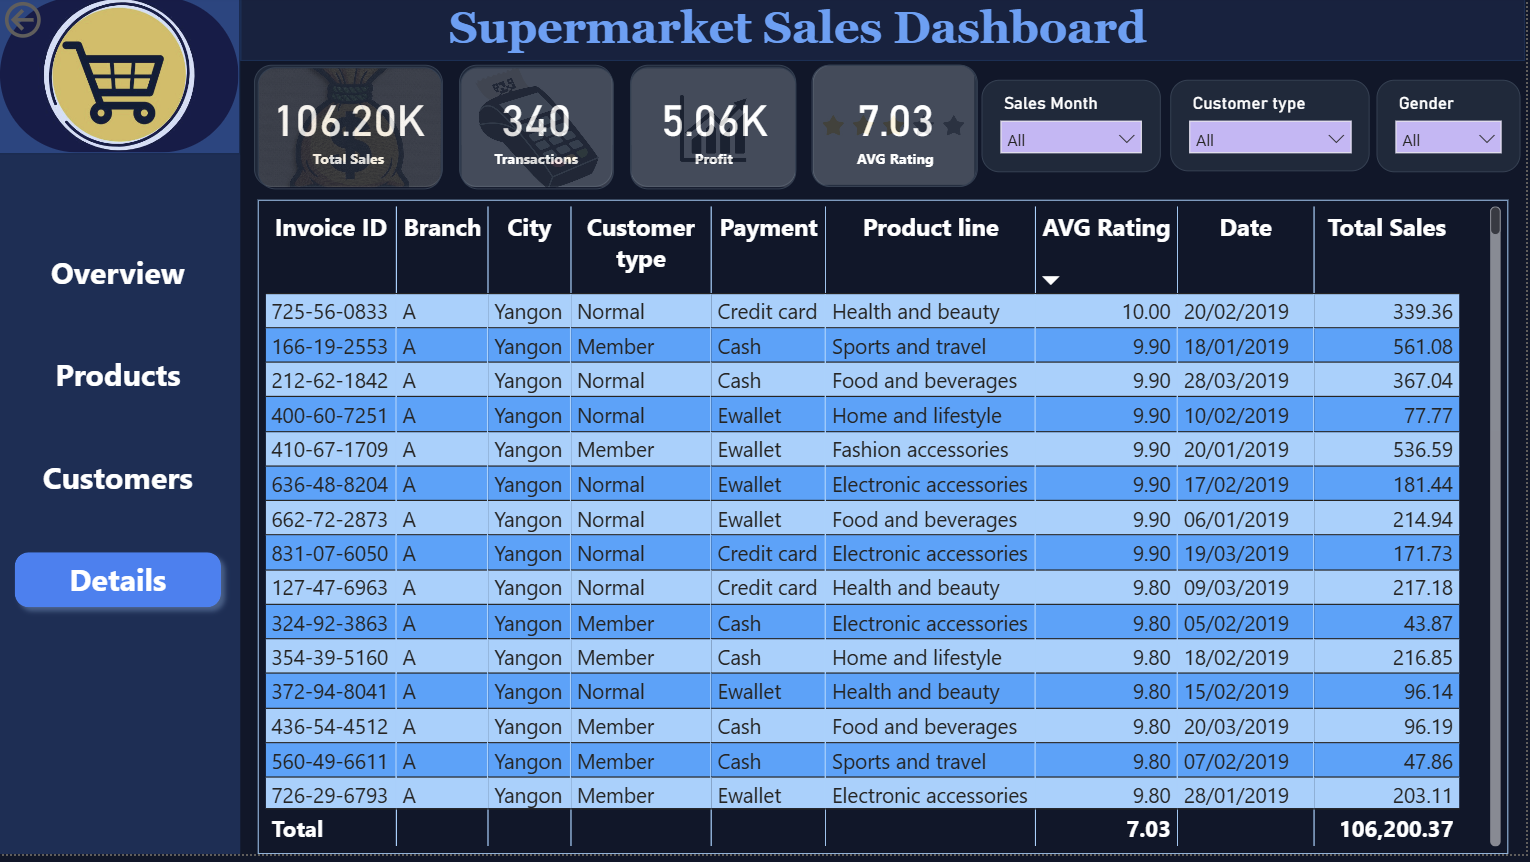

The dashboard page shown, as its layout file describes it:
{"tool":"powerbi","page":{"name":"Details","canvas":[1280,720],"ordinal":3},"visuals":[{"type":"card","fields":{"Values":["supermarket_sales.Total Revenue"]},"box":[214,58.1,158.1,102.3],"z":0},{"type":"shape","box":[0,0,202.3,719.8],"z":500,"group":"g1"},{"type":"card","fields":{"Values":["supermarket_sales.Transactions"]},"box":[386,58.1,129.1,102.3],"z":1000},{"type":"card","fields":{"Values":["supermarket_sales.Gross Income"]},"box":[529.1,58.1,139.5,102.3],"z":2000},{"type":"card","fields":{"Values":["supermarket_sales.AVG Rating"]},"box":[682.6,58.1,138.4,102.3],"z":3000},{"type":"image","box":[0,0,202.3,132.6],"z":4000},{"type":"group","id":"g1","title":"Group 1","box":[0,0,202.3,719.8],"z":5000},{"type":"textbox","box":[372,0,619,54],"z":6000},{"type":"shape","box":[202.3,0,1077.9,54.7],"z":7000},{"type":"image","box":[217.4,59.3,154.7,102.3],"z":8000},{"type":"image","box":[387.2,59.3,129.1,102.3],"z":9000},{"type":"image","box":[529.1,59.3,139.5,102.3],"z":10000},{"type":"image","box":[681.4,58.1,138.4,102.3],"z":11000},{"type":"tableEx","fields":{"Values":["supermarket_sales.Invoice ID","supermarket_sales.Branch","supermarket_sales.City","supermarket_sales.Customer type","supermarket_sales.Payment","supermarket_sales.Product line","supermarket_sales.AVG Rating","supermarket_sales.Date","supermarket_sales.Total Revenue"]},"box":[217.4,170.9,1048.8,548.8],"z":12000},{"type":"actionButton","box":[0,0,100,40],"z":13000},{"type":"slicer","fields":{"Values":["supermarket_sales.Gender"]},"box":[1155,70,120.9,77.9],"z":14000},{"type":"slicer","fields":{"Values":["supermarket_sales.Sales Month"]},"box":[824.4,70,150,77.9],"z":15000},{"type":"slicer","fields":{"Values":["supermarket_sales.Customer type"]},"box":[982.6,70,167.4,76.7],"z":16000},{"type":"pageNavigator","box":[4.7,198.8,191.9,324],"z":20000,"group":"g1"}]}

Visuals, with their boxes in screenshot pixels (x1, y1, x2, y2), scaled from the page's 1280x720 canvas onto the 1530x862 screenshot:
card - supermarket_sales.Total Revenue: [x1=256, y1=70, x2=445, y2=192]
shape: [x1=0, y1=0, x2=242, y2=861]
card - supermarket_sales.Transactions: [x1=461, y1=70, x2=616, y2=192]
card - supermarket_sales.Gross Income: [x1=632, y1=70, x2=799, y2=192]
card - supermarket_sales.AVG Rating: [x1=816, y1=70, x2=981, y2=192]
image: [x1=0, y1=0, x2=242, y2=159]
"Group 1" group: [x1=0, y1=0, x2=242, y2=861]
textbox: [x1=445, y1=0, x2=1185, y2=65]
shape: [x1=242, y1=0, x2=1529, y2=65]
image: [x1=260, y1=71, x2=445, y2=193]
image: [x1=463, y1=71, x2=617, y2=193]
image: [x1=632, y1=71, x2=799, y2=193]
image: [x1=814, y1=70, x2=980, y2=192]
tableEx - supermarket_sales.Invoice ID x supermarket_sales.Branch: [x1=260, y1=205, x2=1514, y2=861]
actionButton: [x1=0, y1=0, x2=120, y2=48]
slicer - supermarket_sales.Gender: [x1=1381, y1=84, x2=1525, y2=177]
slicer - supermarket_sales.Sales Month: [x1=985, y1=84, x2=1165, y2=177]
slicer - supermarket_sales.Customer type: [x1=1175, y1=84, x2=1375, y2=176]
pageNavigator: [x1=6, y1=238, x2=235, y2=626]
